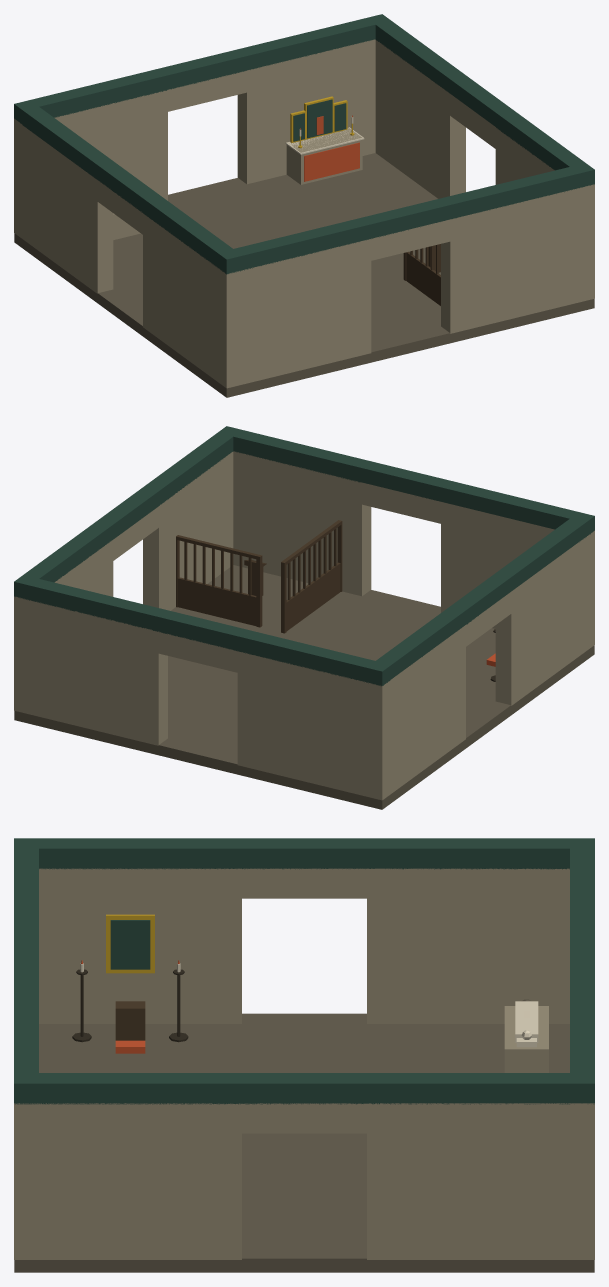
Rendered from LateChantryChapel.fbx.
The picture shows the model from 3 angles, top to bottom: view 1: azimuth 30°, elevation 25°; view 2: azimuth 150°, elevation 25°; view 3: azimuth 270°, elevation 25°; orthographic projection. The views are drawn at different scales.
Visible parts, largest first — view 1: LateChantryChapel; view 2: LateChantryChapel; view 3: LateChantryChapel.
Part boxes in pixels (<box>): LateChantryChapel: <box>14,14,594,397</box>; LateChantryChapel: <box>14,426,594,809</box>; LateChantryChapel: <box>14,838,594,1272</box>.
Size of the model in its own units: 1202 by 432 by 1202.
8 materials, 8 textured.
